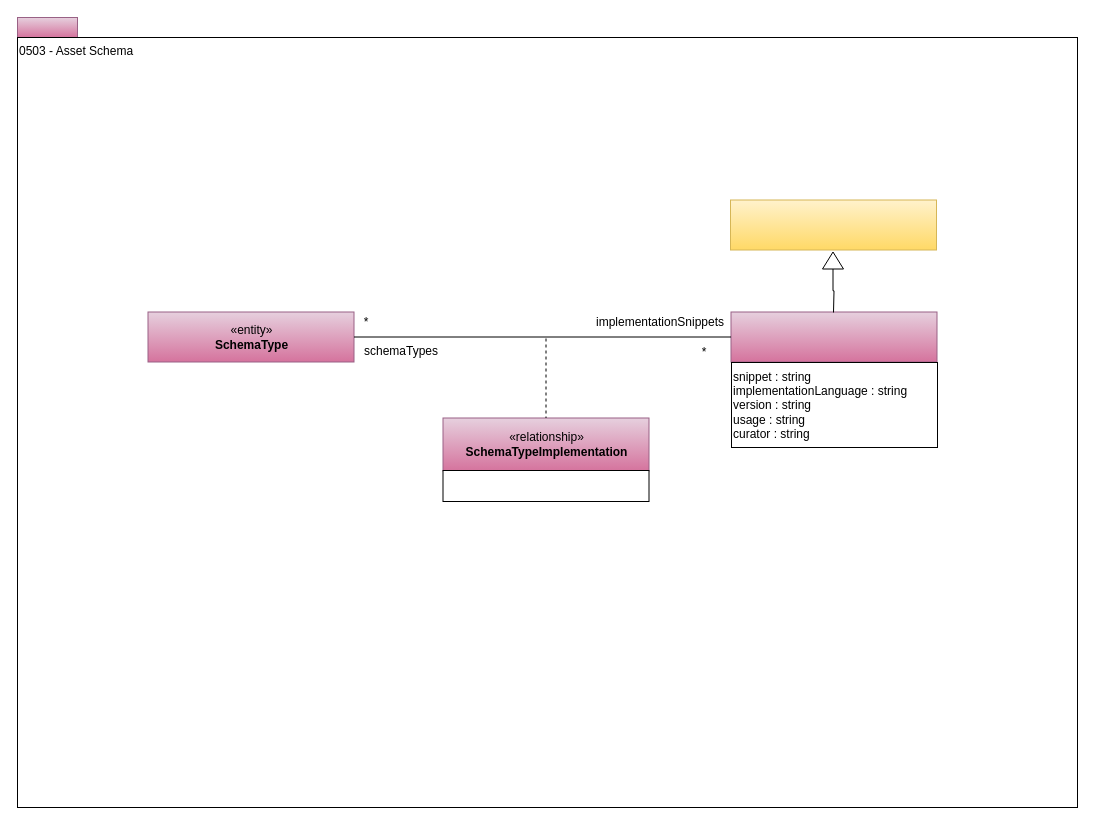
Image size: 1095x825. Some labels were removed from this diagram. Each missing label, with the box of its shape:
«entity» ImplementationSnippet: (730, 311, 937, 362)
«entity» Referenceable: (730, 199, 936, 250)
